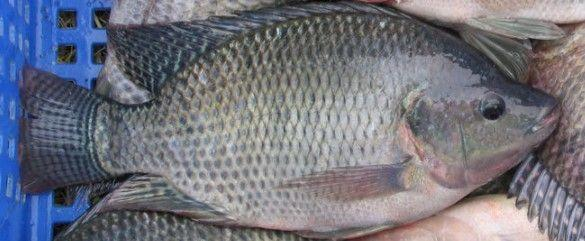Tilapia: (20, 0, 566, 238)
